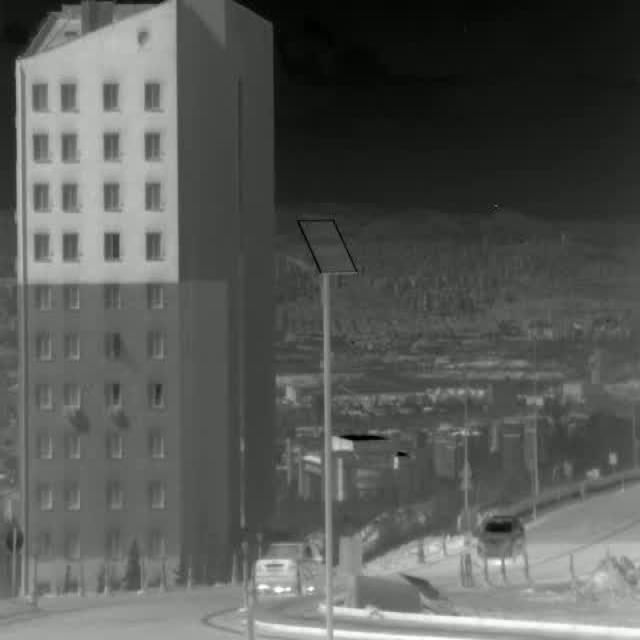Car: (251, 538, 324, 594), (475, 513, 527, 558)
